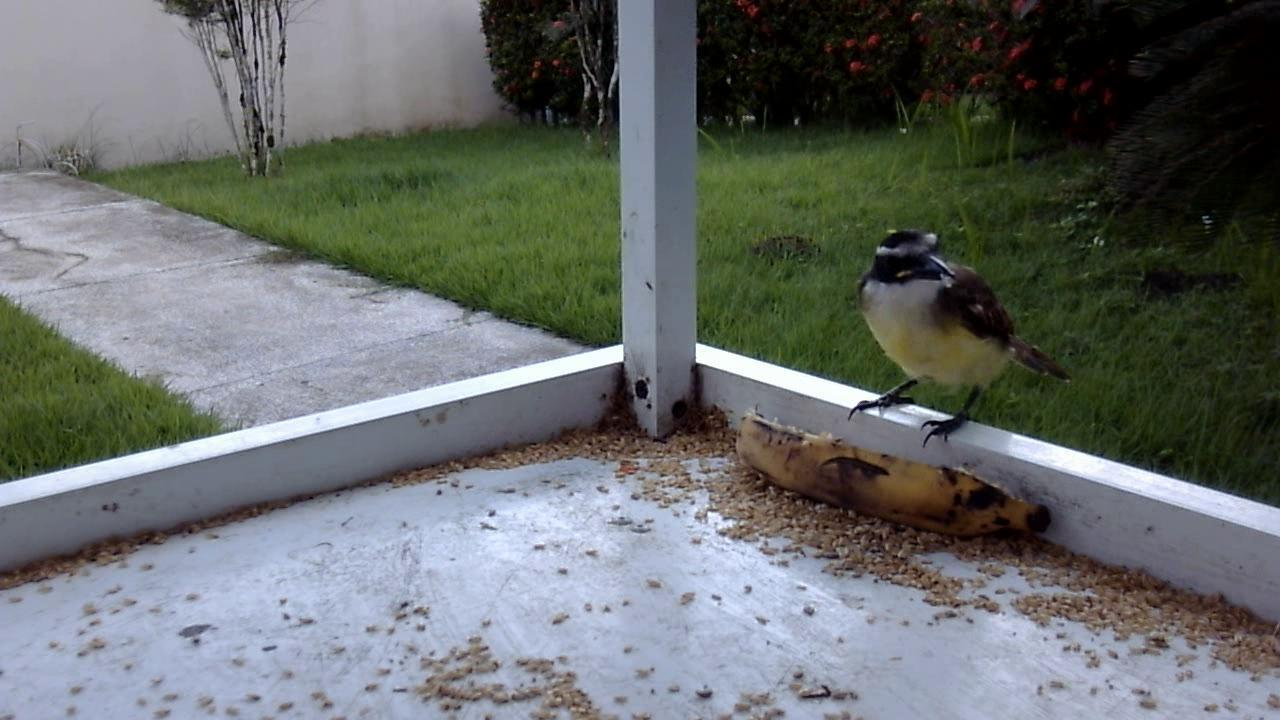bem_te_vi: (838, 218, 1080, 457)
